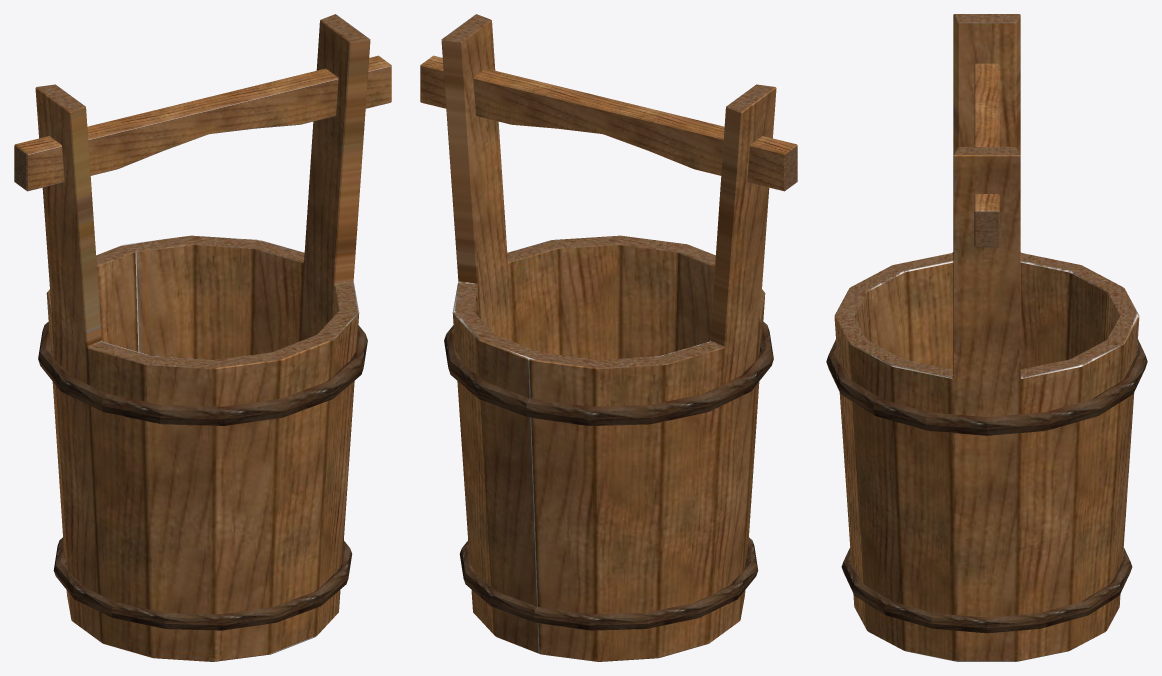
Rendered from pp_teoke.glb.
The picture shows the model from 3 angles, left to right: view 1: azimuth 30°, elevation 25°; view 2: azimuth 150°, elevation 25°; view 3: azimuth 270°, elevation 25°; orthographic projection. The views are drawn at different scales.
Parts seen in each view (by area): view 1: pp_teoke-0; view 2: pp_teoke-0; view 3: pp_teoke-0.
Boxes of the visible parts, x1,y1,x2,y2 form: pp_teoke-0: (14, 14, 391, 661); pp_teoke-0: (420, 14, 797, 661); pp_teoke-0: (826, 14, 1147, 661).
Size of the model in its own units: 0.2964 by 0.42 by 0.2338.
1 material, 1 textured.
